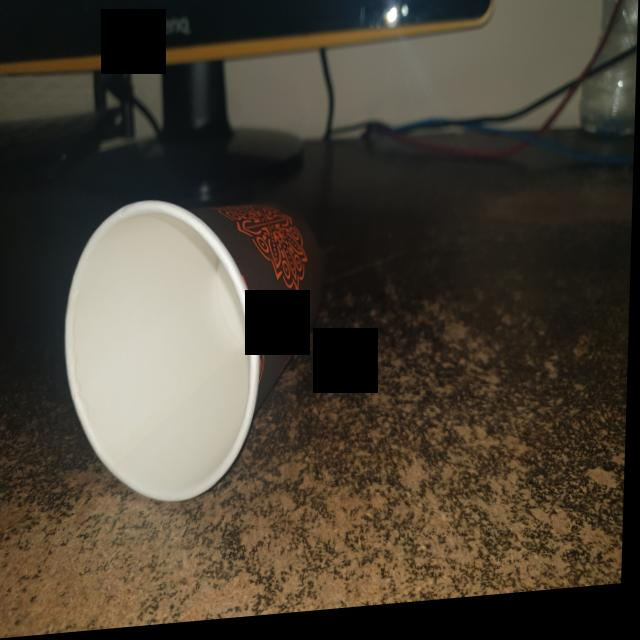cups: (54, 184, 333, 517)
